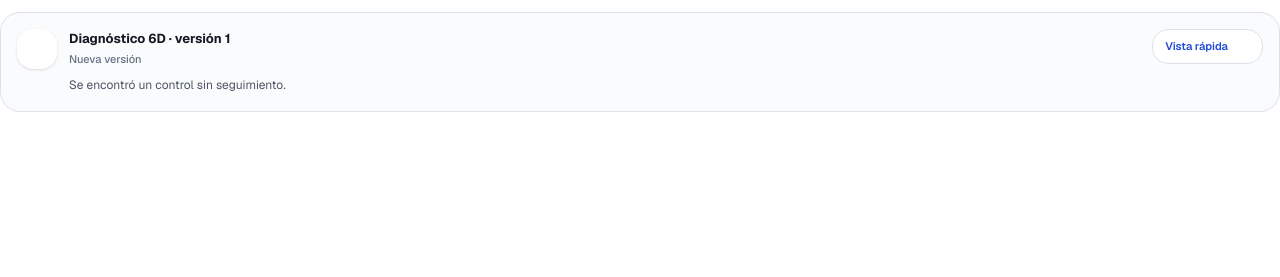
Scenario: vista rápida de entregables en la conversación › carga contenido solo al expandir, sin enviar a una pantalla de detalle
The width and height of the screenshot is (1280, 277).
Expected: the text "Se encontró un control sin seguimiento." is shown, [69,77,286,93]
What coordinates should you click on to do the following:
click the button "Vista rápida"
I would click on:
 (1208, 46)
Its box is [1152,29,1263,64].
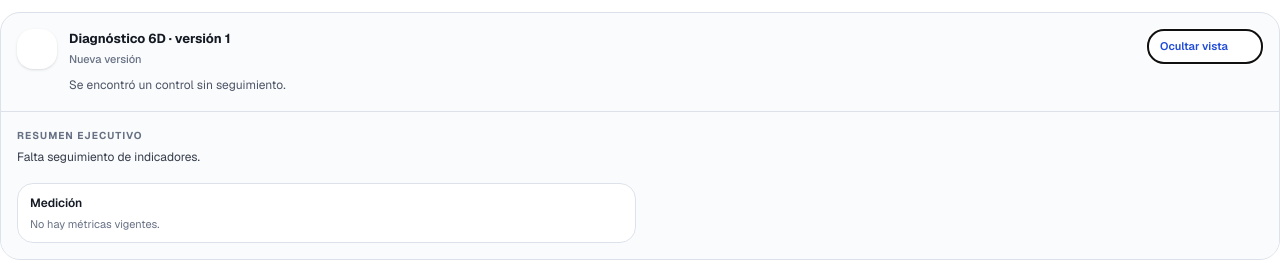
Result: the text "Falta seguimiento de indicadores." is shown at [17,149,200,165]
Result: the text "Resumen ejecutivo" is shown at [17,129,142,142]
What coordinates should you click on to do the following:
click the button "Ocultar vista"
I would click on:
 (1205, 46)
Its box is [1147,29,1263,64].
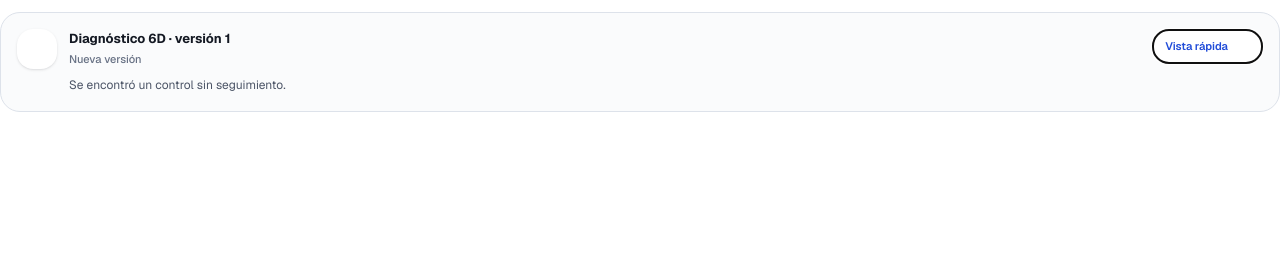
Result: the text "Falta seguimiento de indicadores." is gone
